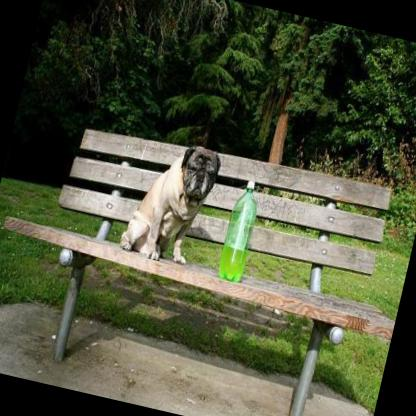pug: (115, 130, 226, 268)
